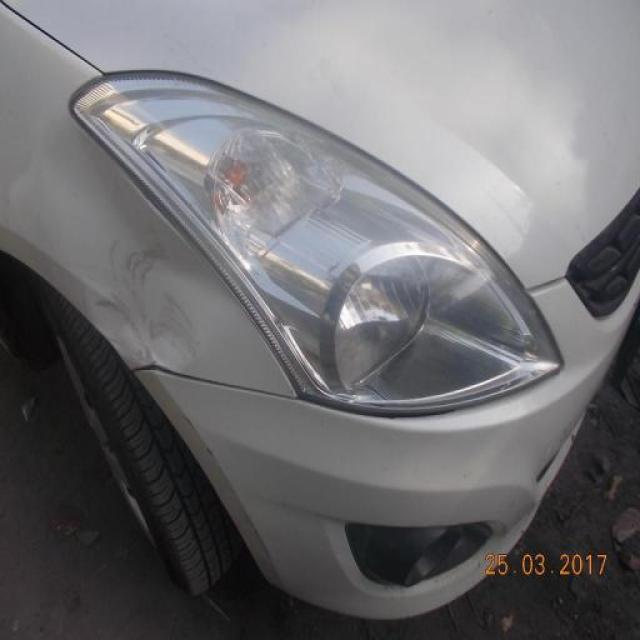dent: (93, 227, 201, 377)
